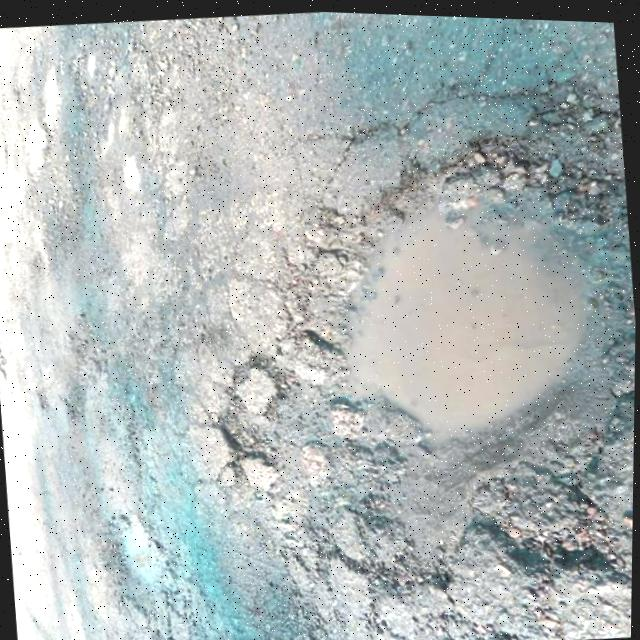Pothole: (235, 105, 639, 559), (92, 341, 331, 640)
